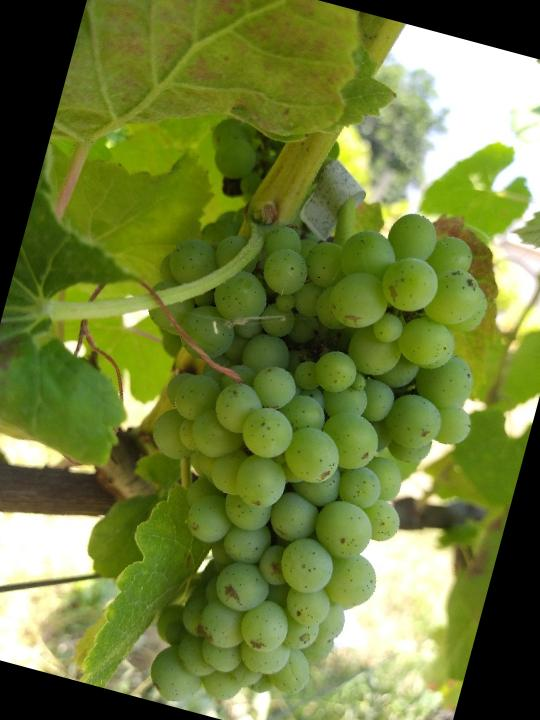grape: (45, 149, 525, 720)
